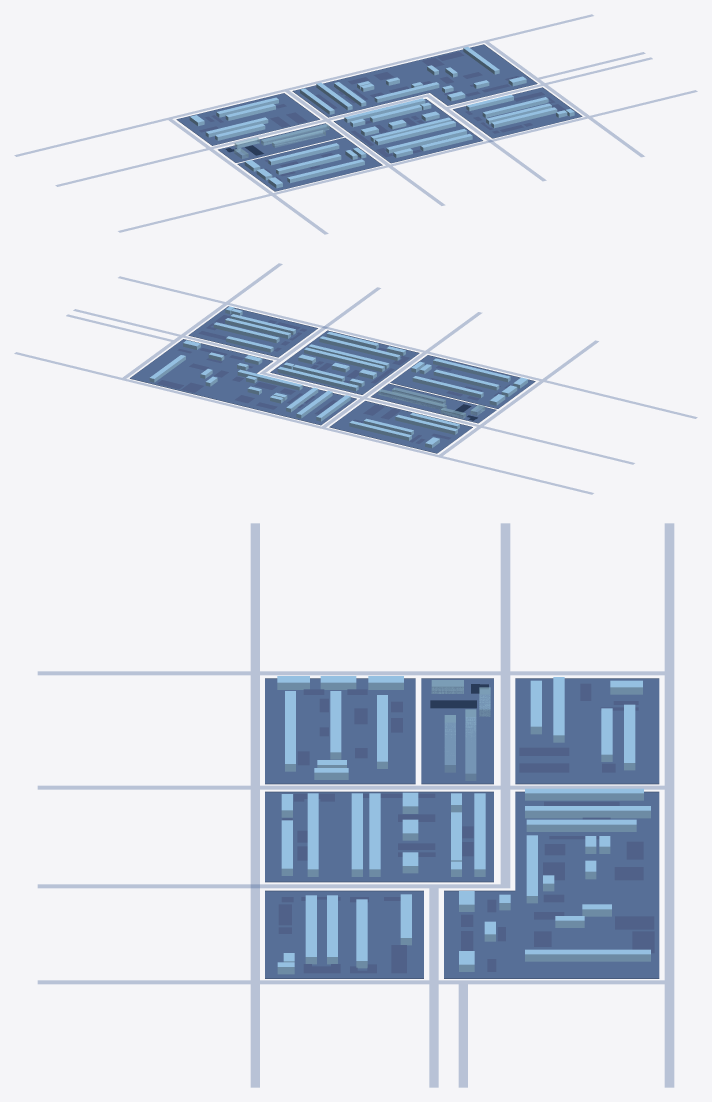
File: xiaoditu.gltf
3 views of the same model, one above another, from view 1: azimuth 30°, elevation 25°; view 2: azimuth 150°, elevation 25°; view 3: azimuth 270°, elevation 25° (orthographic). The views are drawn at different scales.
Visible parts, largest first — view 1: BD04, D3GC, KQ, D4GC, D1GC, D2GC, BD08, D5GC, BD07, D2GC_Q212, D2GC_Q312, D1GC_Q101 (+12 smaller); view 2: BD04, D3GC, KQ, D4GC, D1GC, D2GC, BD08, D5GC, BD07, D2GC_Q418, D2GC_Q312, D2GC_Q112 (+10 smaller); view 3: BD04, D3GC, D2GC, D4GC, KQ, D1GC, D5GC, BD08, BD07, D3GC_Q412.001, D3GC_Q412.002, D3GC_Q518 (+6 smaller).
Boxes of the visible parts, x1,y1,x2,y2 form: BD04: [14, 14, 697, 234]; D3GC: [292, 44, 537, 117]; KQ: [199, 51, 565, 180]; D4GC: [176, 93, 319, 145]; D1GC: [237, 137, 382, 191]; D2GC: [334, 99, 482, 163]; BD08: [218, 123, 343, 162]; D5GC: [453, 87, 582, 138]; BD07: [234, 124, 329, 158]; D2GC_Q212: [375, 121, 455, 145]; D2GC_Q312: [386, 129, 466, 153]; D1GC_Q101: [287, 159, 364, 183]; BD04: [14, 263, 697, 494]; D3GC: [130, 339, 356, 425]; KQ: [157, 315, 513, 443]; D4GC: [329, 401, 472, 453]; D1GC: [390, 355, 535, 408]; D2GC: [270, 330, 419, 394]; BD08: [371, 383, 496, 423]; D5GC: [188, 306, 317, 357]; BD07: [378, 387, 485, 418]; D2GC_Q418: [277, 366, 358, 391]; D2GC_Q312: [319, 336, 400, 360]; D2GC_Q112: [304, 347, 384, 371]; BD04: [38, 523, 673, 1087]; D3GC: [444, 791, 659, 978]; D2GC: [265, 791, 493, 882]; D4GC: [515, 678, 659, 784]; KQ: [278, 683, 654, 973]; D1GC: [265, 678, 415, 784]; D5GC: [265, 890, 423, 978]; BD08: [421, 678, 493, 784]; BD07: [431, 680, 490, 780]; D3GC_Q412.001: [525, 949, 650, 961]; D3GC_Q412.002: [525, 806, 650, 818]; D3GC_Q518: [525, 788, 643, 800].
Bounding box in the file's own units: 239 × 1.47 × 114.
